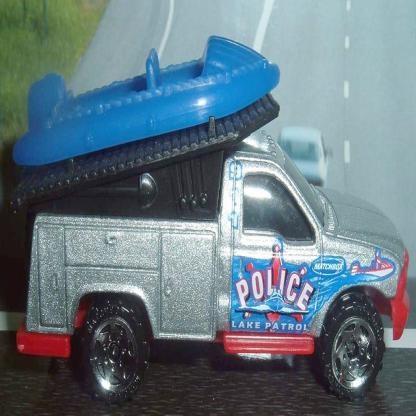Car: (16, 129, 410, 407), (279, 127, 331, 188)
Truck: (15, 75, 395, 392)
